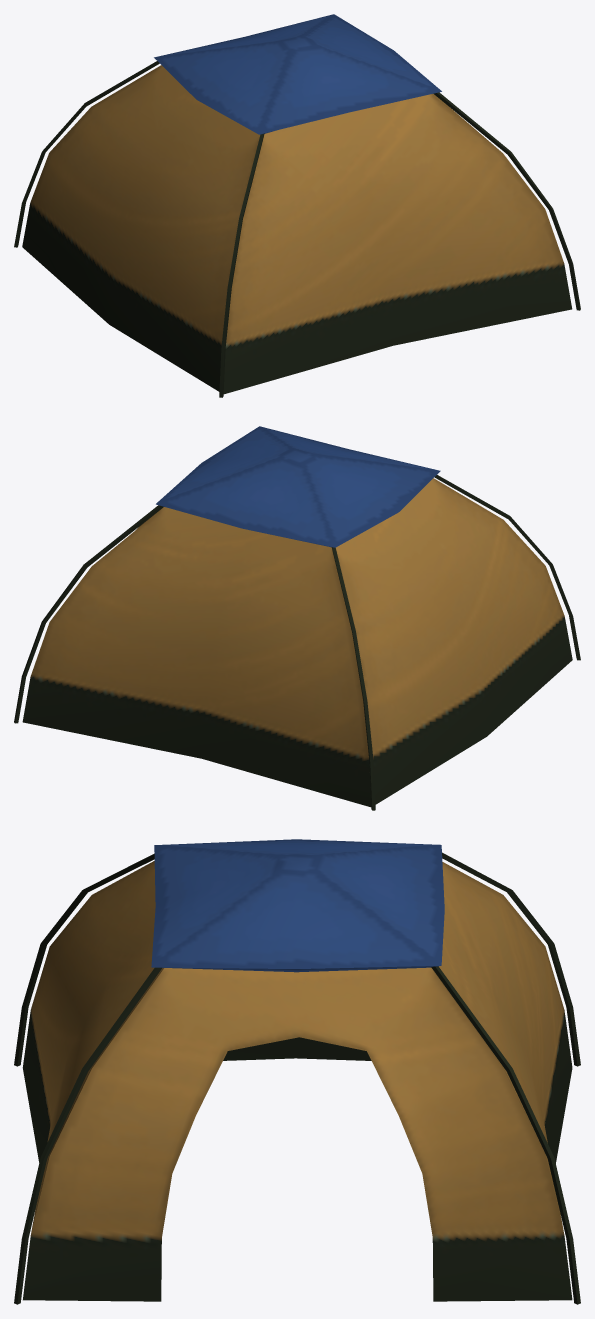
Rendered from stan_kempink.glb.
3 views of the same model, one above another, from view 1: azimuth 30°, elevation 25°; view 2: azimuth 150°, elevation 25°; view 3: azimuth 270°, elevation 25° (orthographic). The views are drawn at different scales.
Visible parts, largest first — view 1: stan_kempink; view 2: stan_kempink; view 3: stan_kempink.
Part boxes in pixels (bbox=[...]): stan_kempink: bbox=[14, 14, 580, 397]; stan_kempink: bbox=[14, 426, 580, 810]; stan_kempink: bbox=[14, 839, 580, 1304].
Bounding box in the file's own units: 4.96 × 3.01 × 4.83.
Materials: 1 (1 with a texture image).
